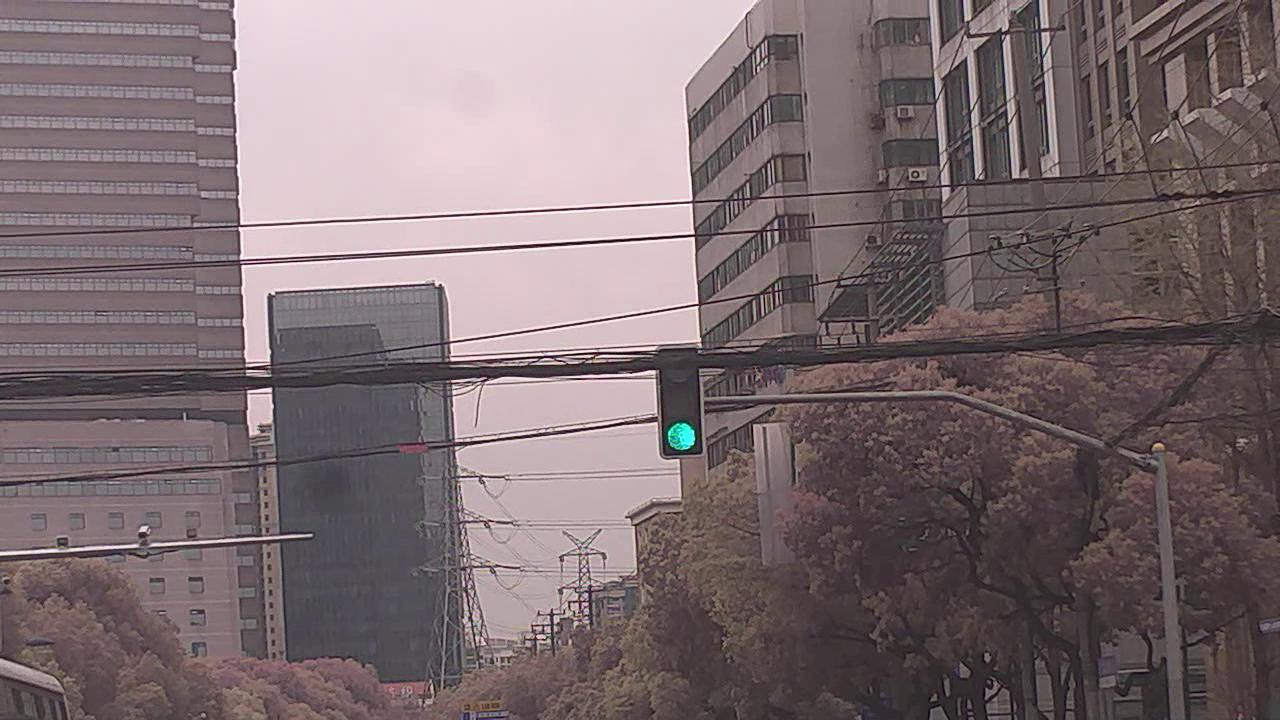traffic_light: (655, 344, 707, 458)
